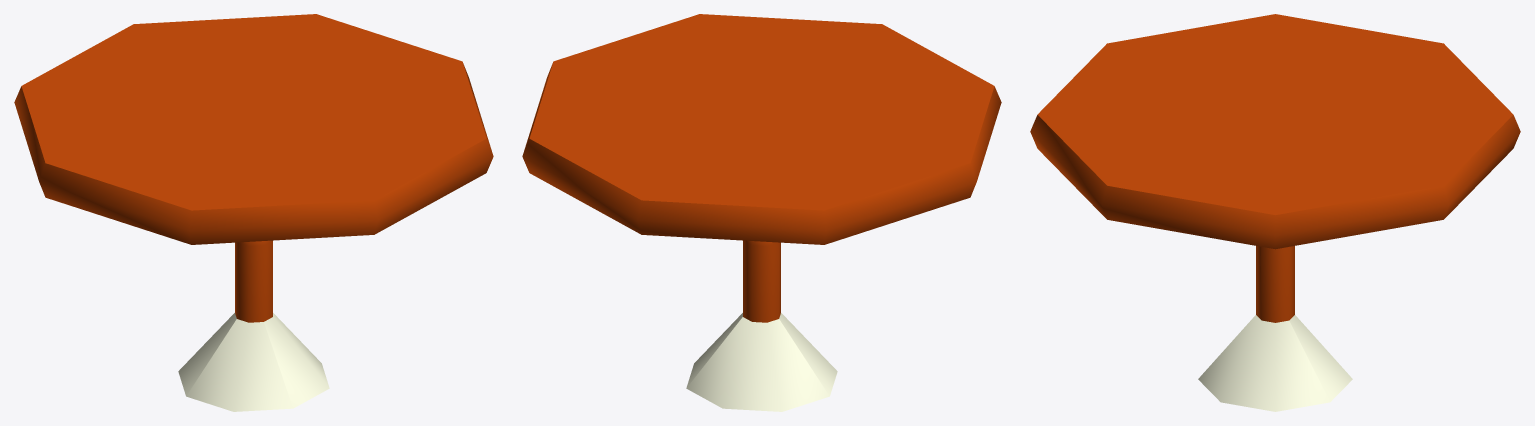
File: table.fbx
The picture shows the model from 3 angles, left to right: view 1: azimuth 30°, elevation 25°; view 2: azimuth 150°, elevation 25°; view 3: azimuth 270°, elevation 25°; orthographic projection.
Visible parts, largest first — view 1: table; view 2: table; view 3: table.
Part boxes in pixels (x1=…): table: x1=14, y1=14, x2=493, y2=411; table: x1=522, y1=14, x2=1001, y2=411; table: x1=1030, y1=14, x2=1520, y2=411.
Size of the model in its own units: 206 by 123 by 206.
